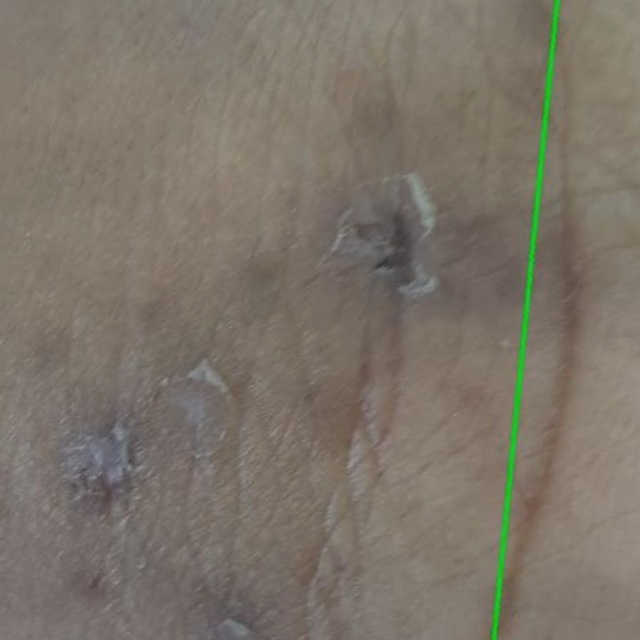Scabies: (494, 0, 639, 639)
